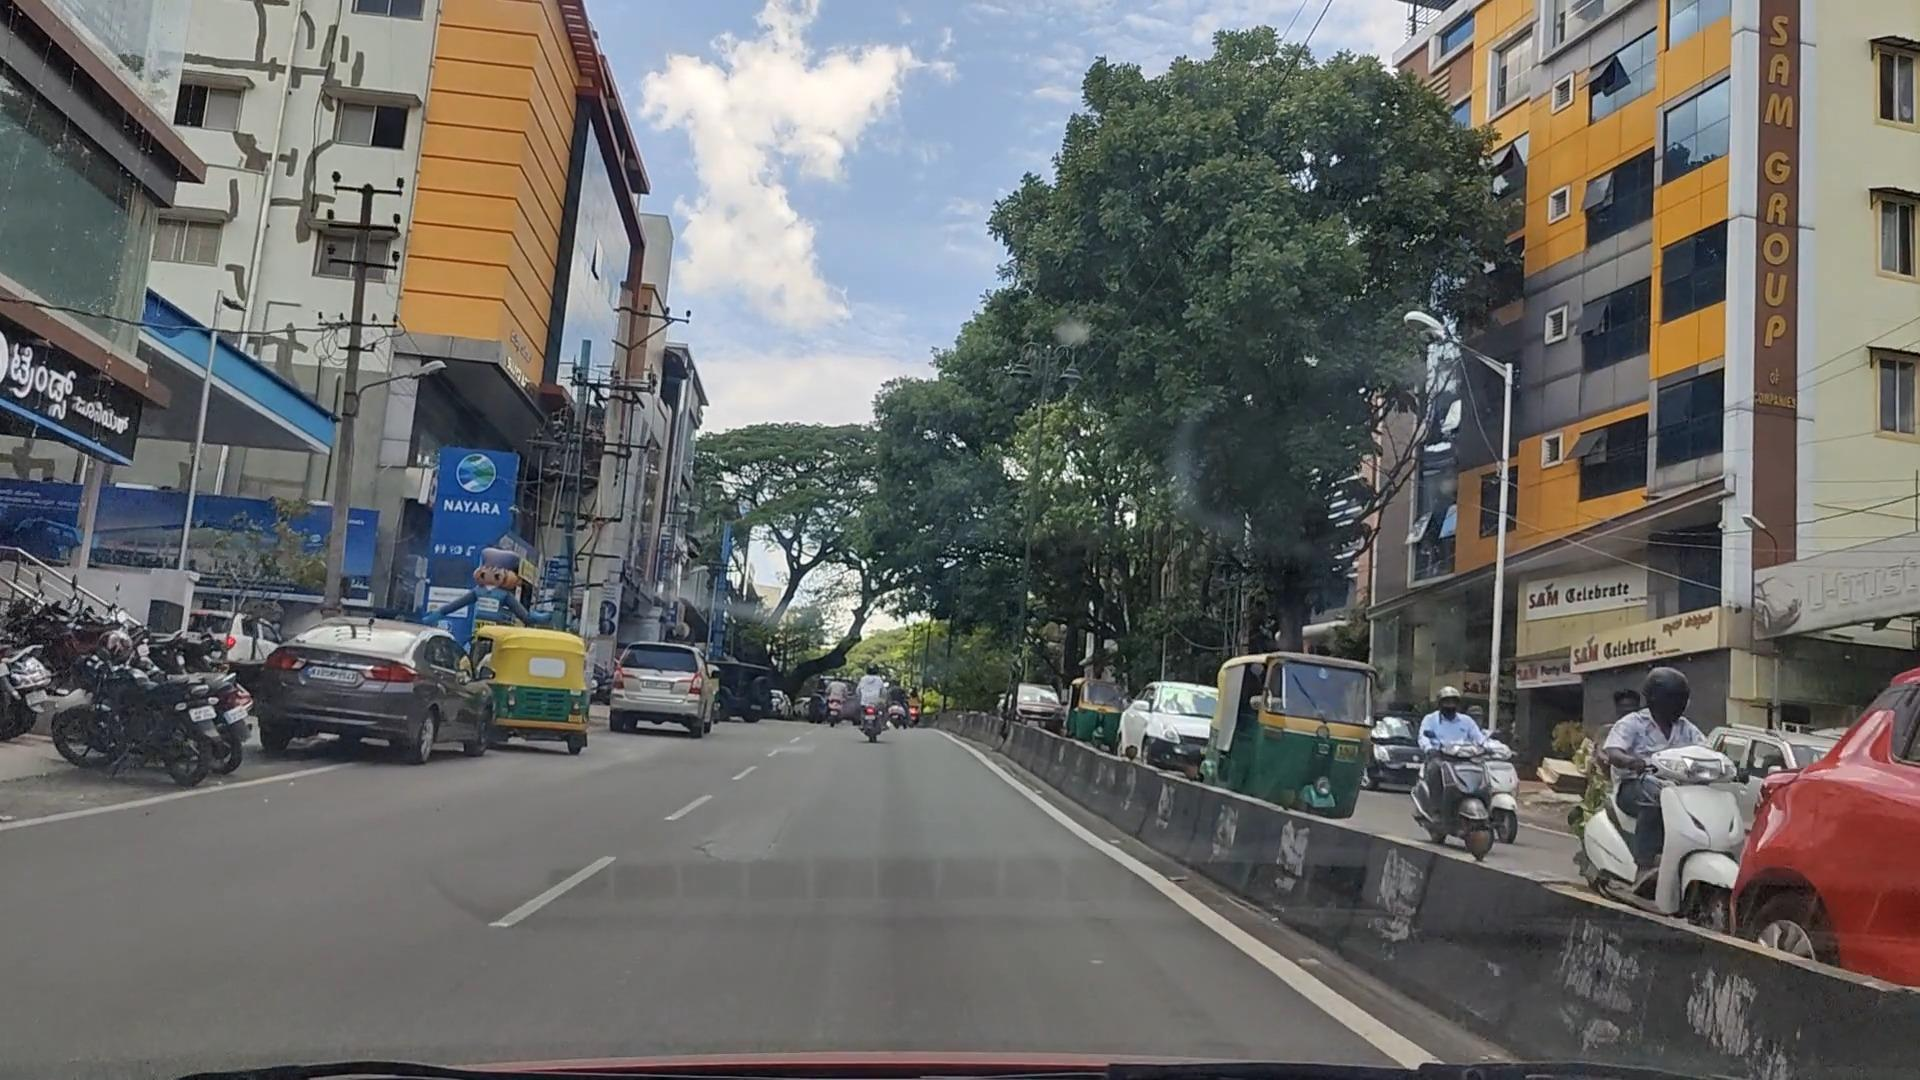LMV: (265, 596, 496, 778), (463, 625, 597, 758)
